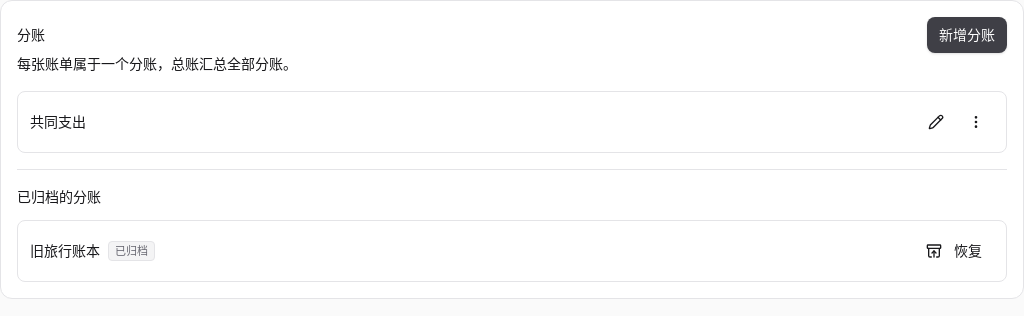
设置 book list data range › drops the draft on Escape and writes nothing
The image size is (1024, 316).
Step 1. Click the button named "重命名 共同支出" → coordinates (936, 122), box [918,104,954,140]
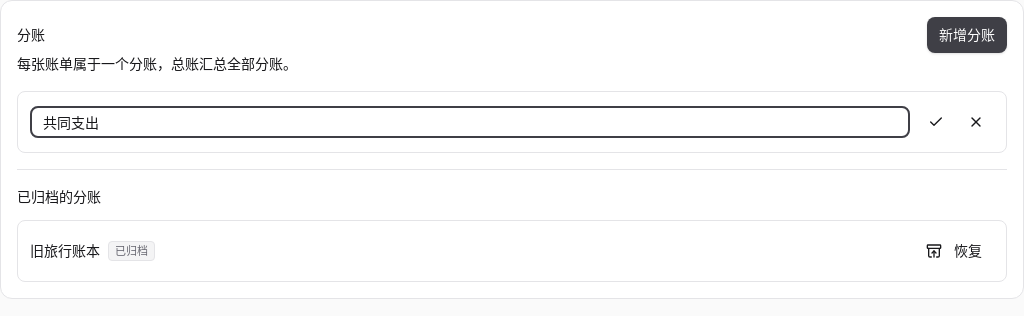
Step 2. Replace the text in the field named "重命名 共同支出" with "改到一半" → coordinates (470, 122), box [30,106,910,138]
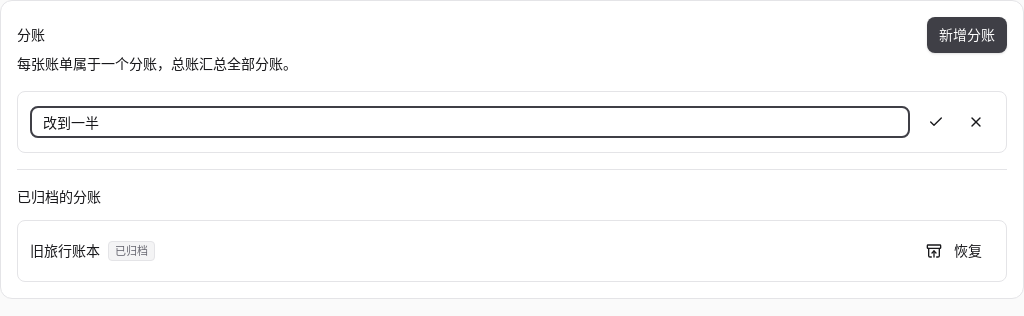
Step 3. Press Escape in the field named "重命名 共同支出", box [30,106,910,138]
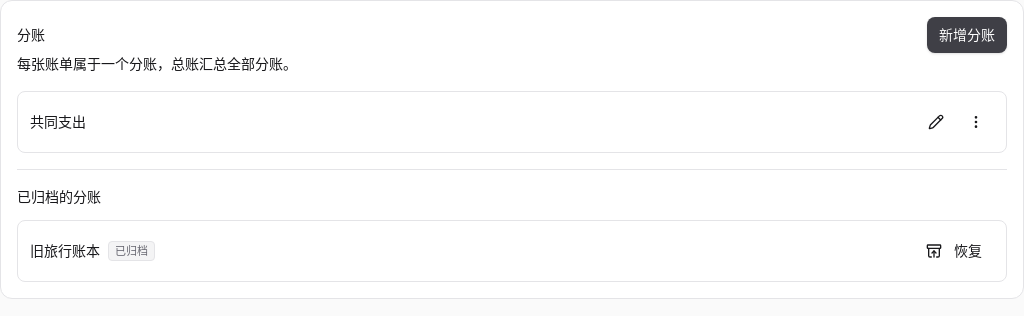
Result: the text "共同支出" is shown at [30,113,86,130]
